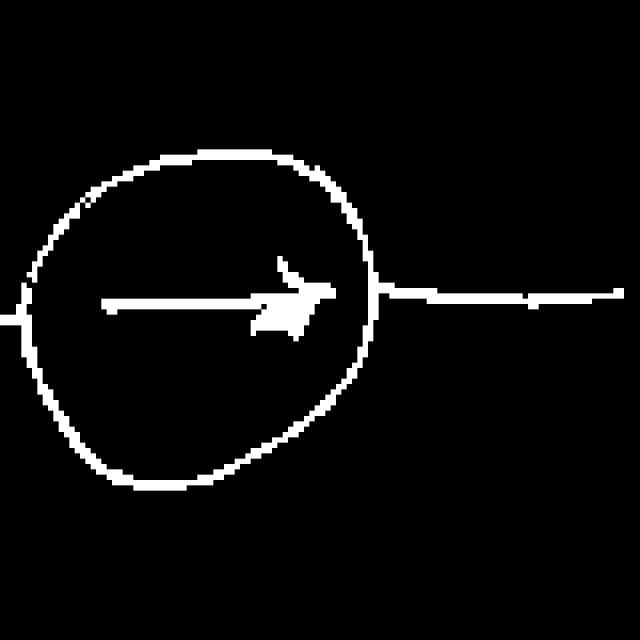current_source: (18, 122, 388, 506)
